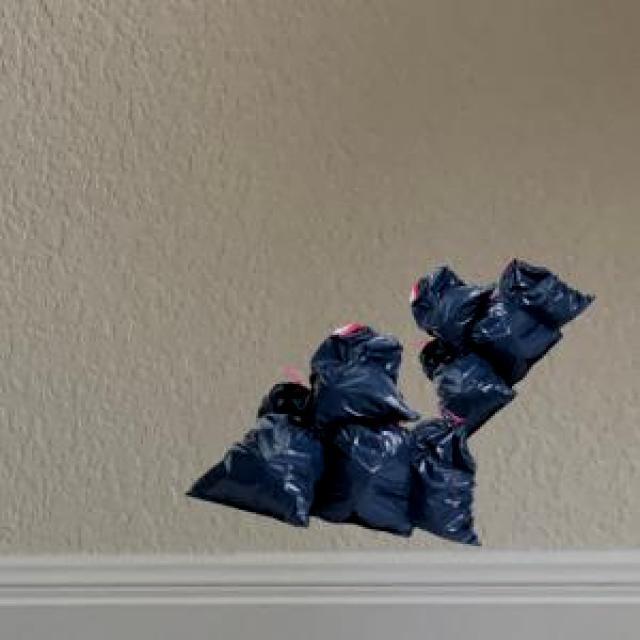Trashbag: (193, 412, 325, 522), (321, 419, 418, 538), (308, 323, 408, 425), (408, 418, 480, 552), (411, 264, 483, 346), (434, 356, 506, 431), (478, 306, 552, 378), (505, 258, 588, 319)
